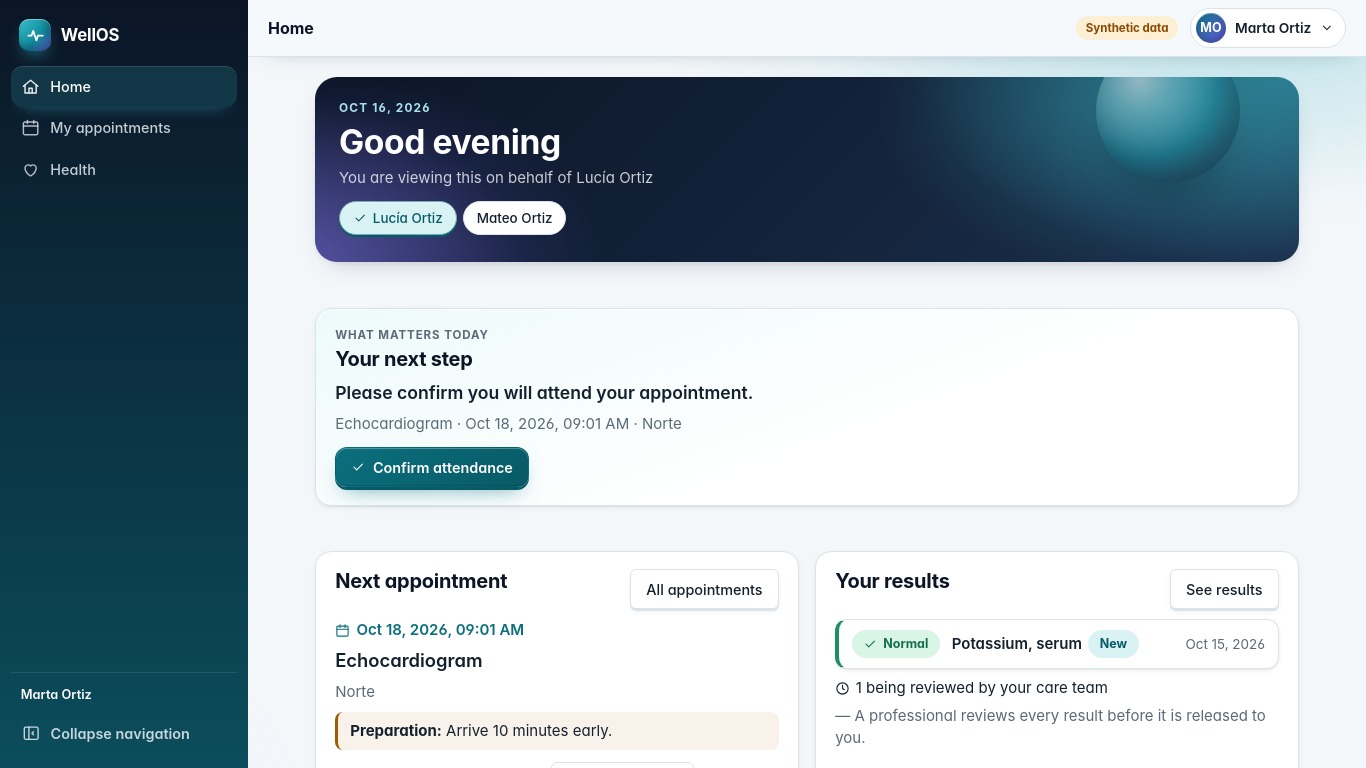
Scenario: patient home /my › shows one real next action and confirms attendance through the self-service API
Expected: the text "Please confirm you will attend your appointment." is shown, [335,382,753,403]
Expected: the text "You are viewing this on behalf of" shows "Lucía Ortiz", [339,168,653,187]
Click the button with test id "home-confirm-attendance": (432, 468) [335,448,529,488]
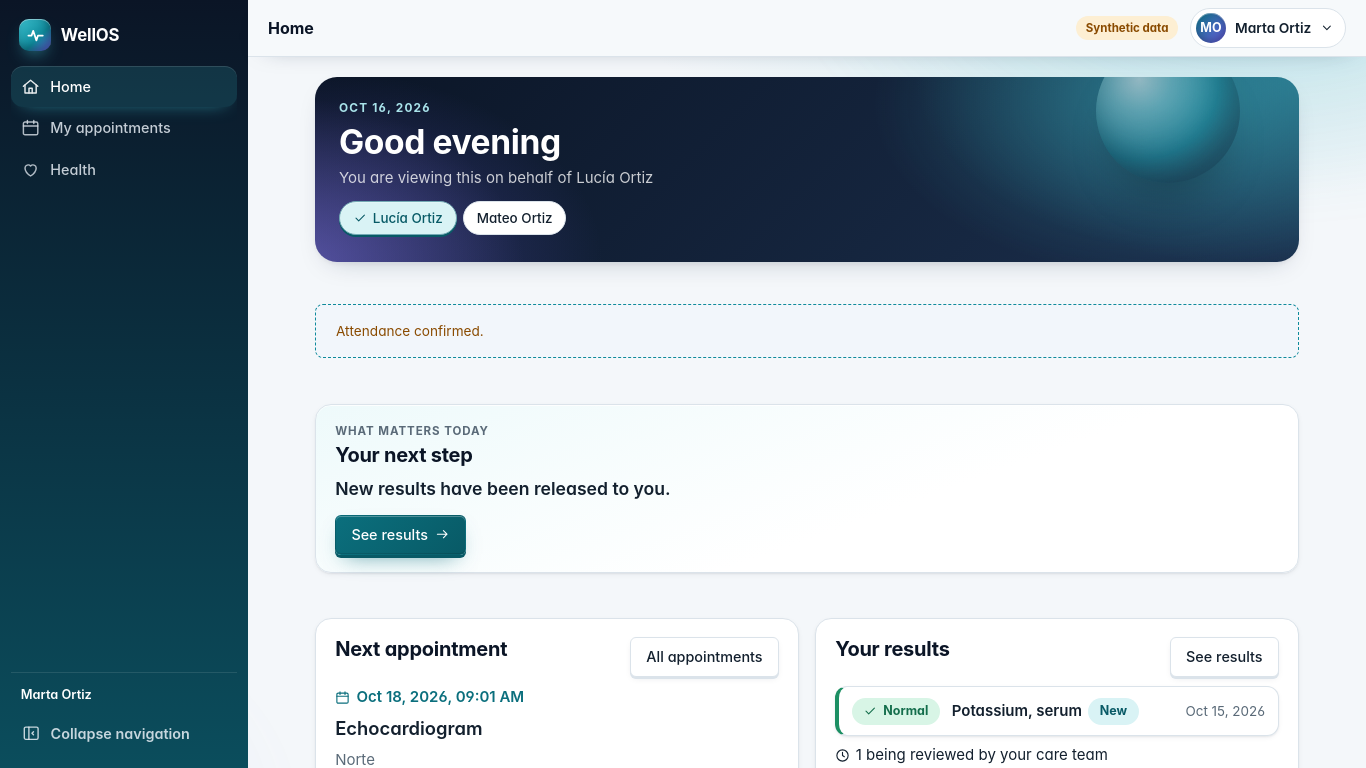
Expected: the text "New results have been released to you." is shown, [335,478,671,499]
Expected: the text "Attendance confirmed." is shown, [315,304,1299,358]
